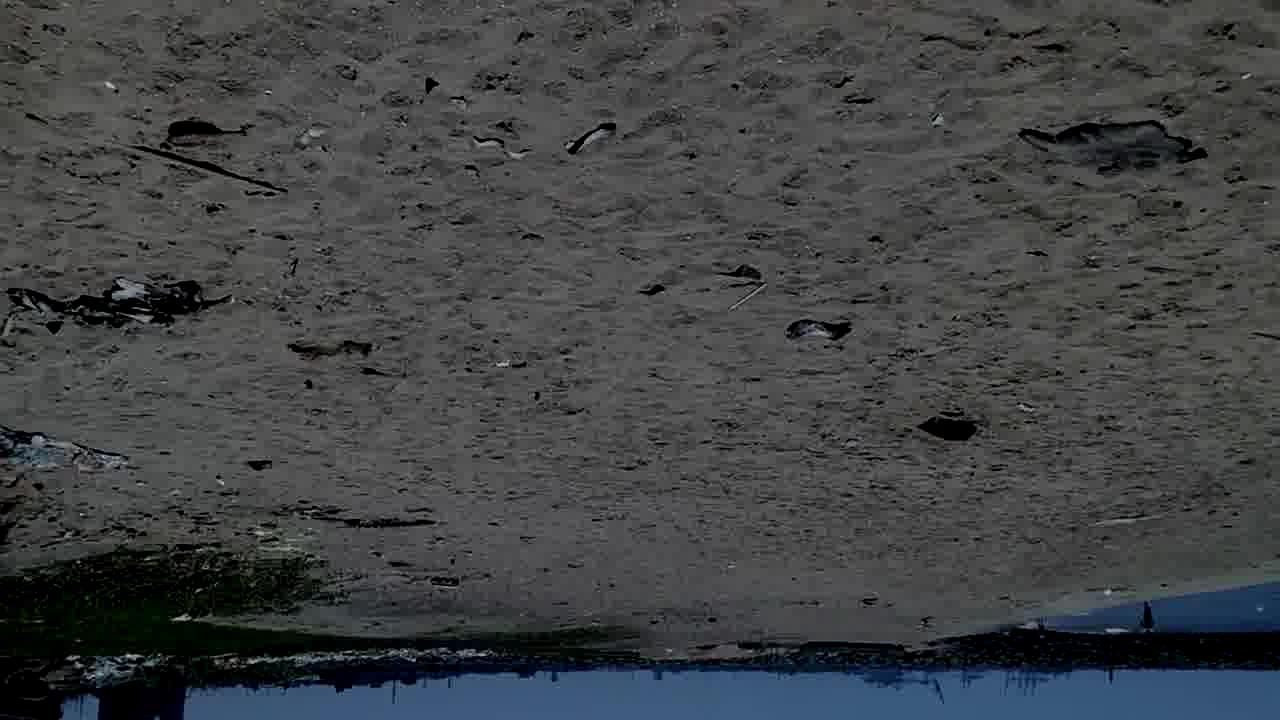obj: (9, 108, 291, 197), (1020, 118, 1200, 176), (22, 284, 220, 336)
sand/background: (1, 557, 1279, 719)
